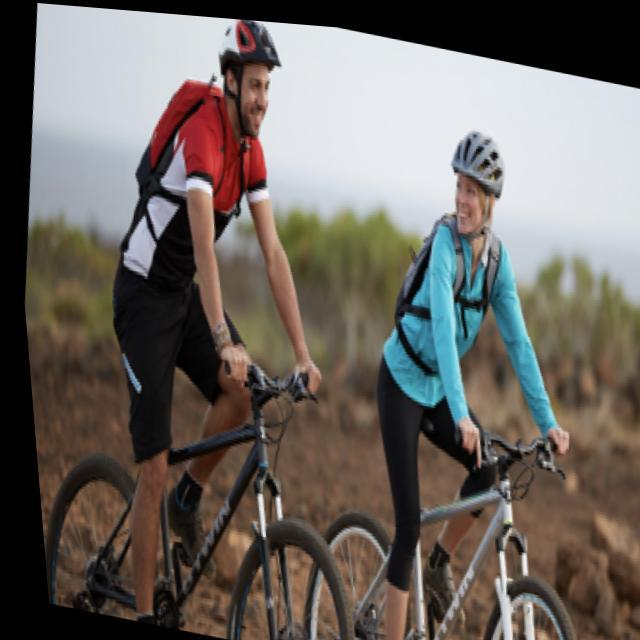Helmet: (210, 16, 280, 140), (443, 120, 508, 242)
